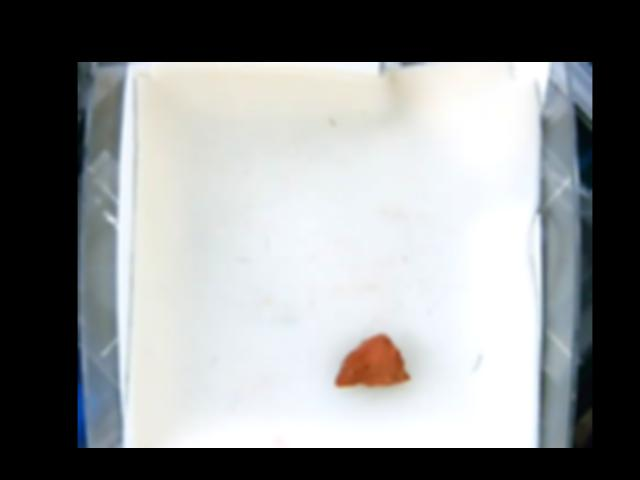Brisk: (334, 333, 413, 388)
